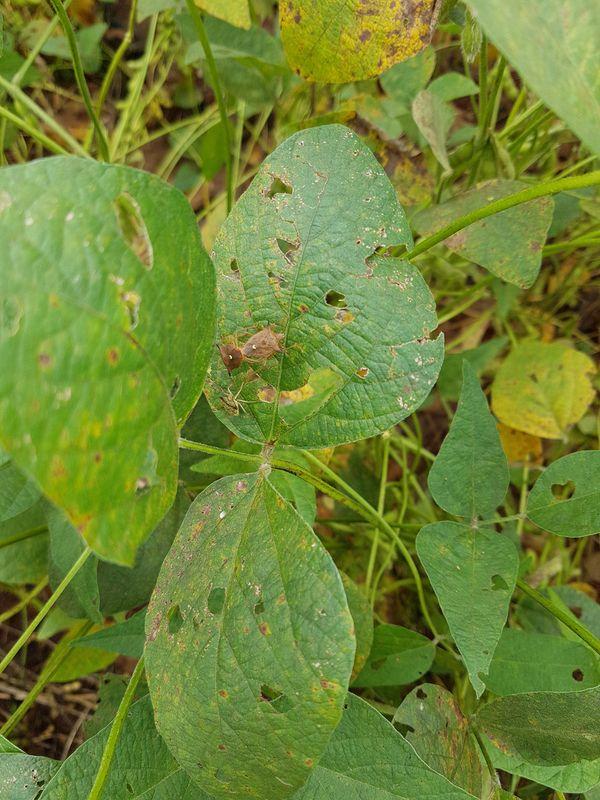Euschistus_heros_adulto: (242, 317, 297, 373), (207, 335, 241, 380)
Euschistus_heros_ninfa: (209, 379, 262, 423)
